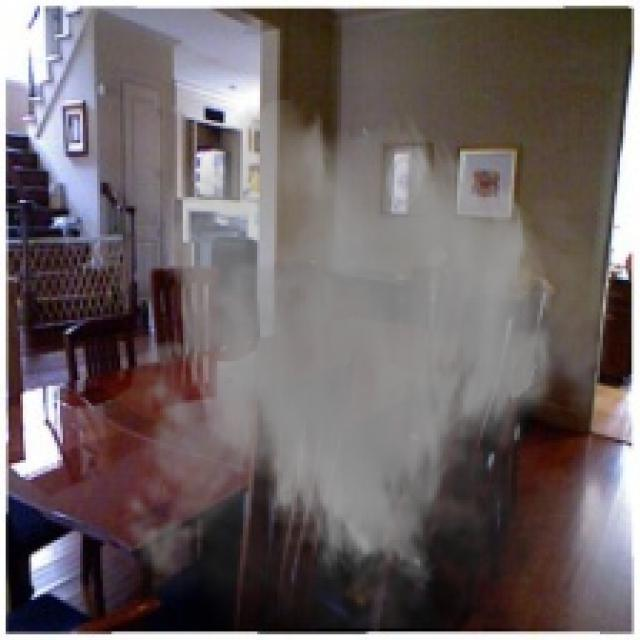Smoke: (109, 94, 626, 629)
